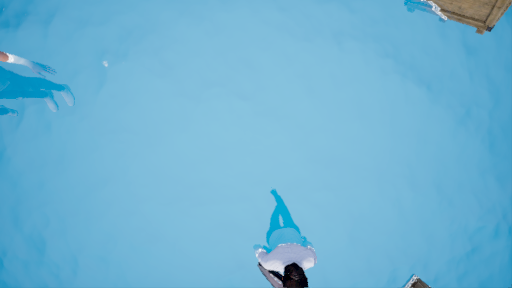person: (246, 189, 318, 288)
